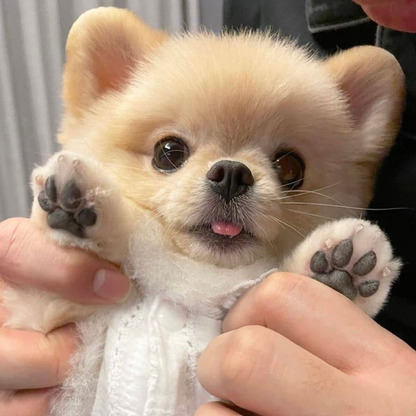Pomeranian: (55, 7, 405, 307)
